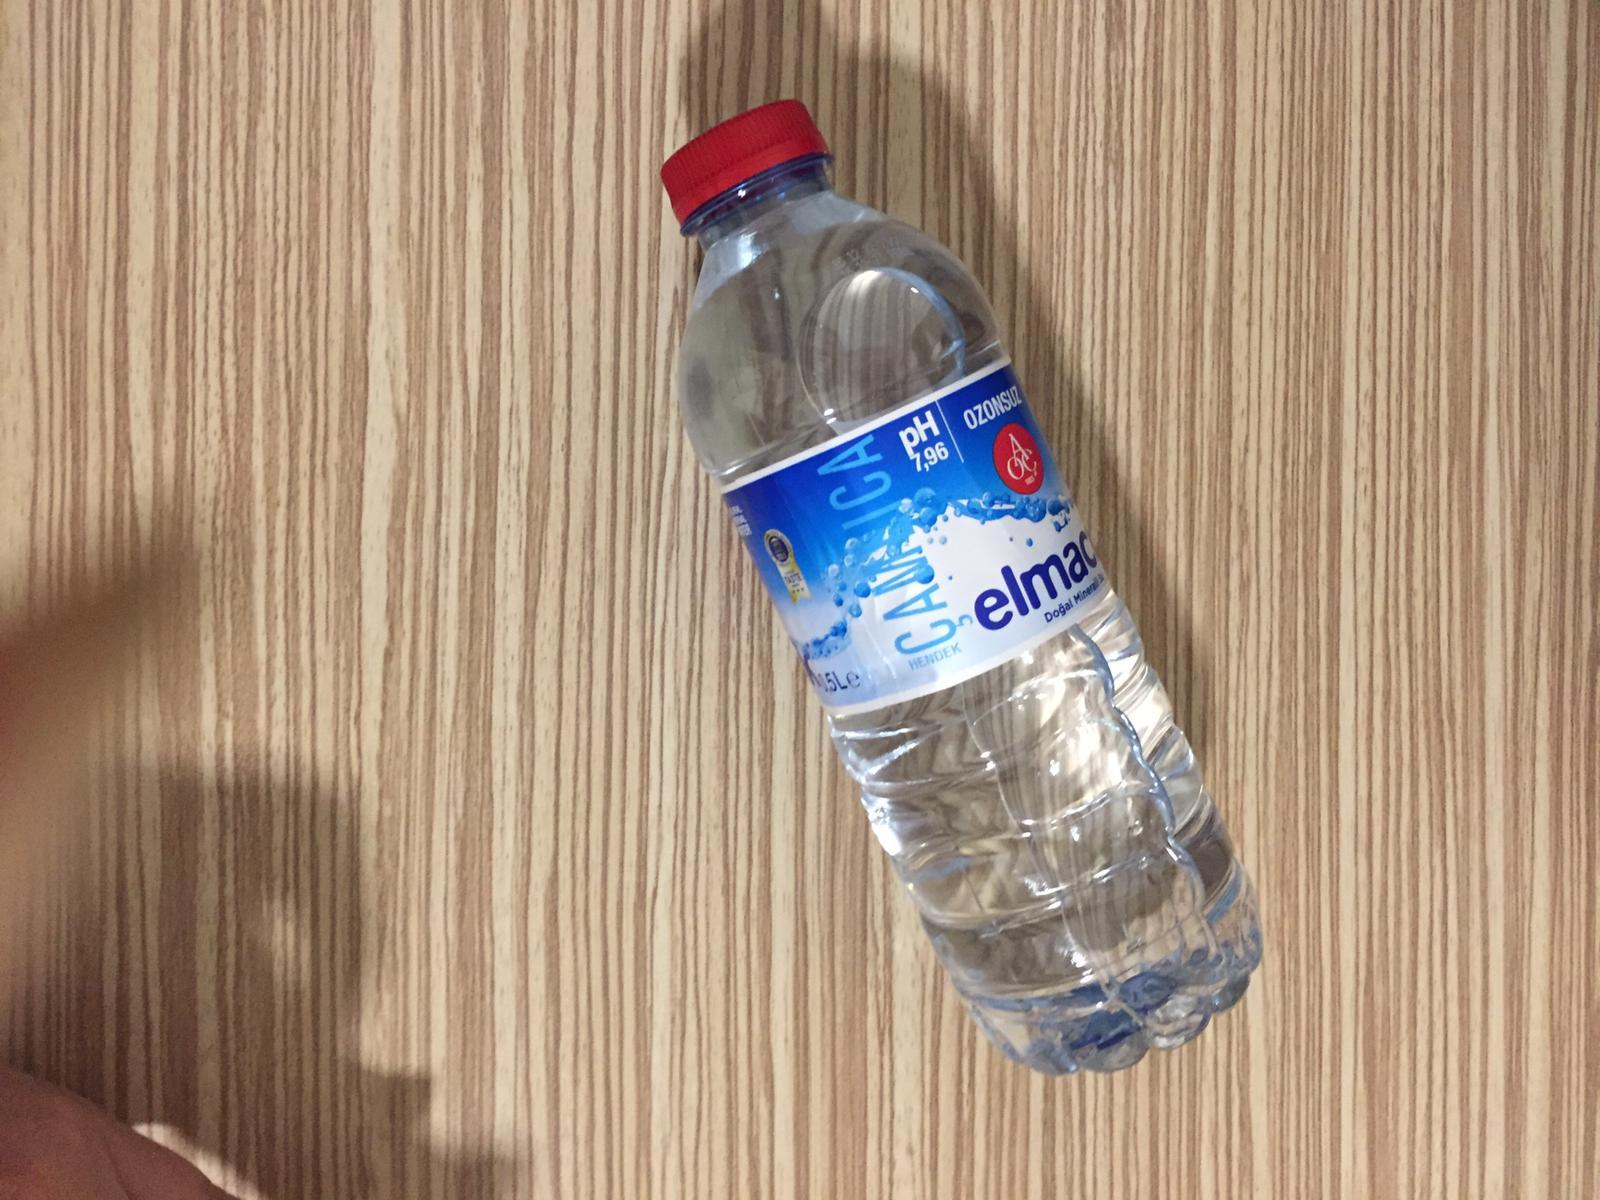bottle: (659, 95, 1270, 1070)
